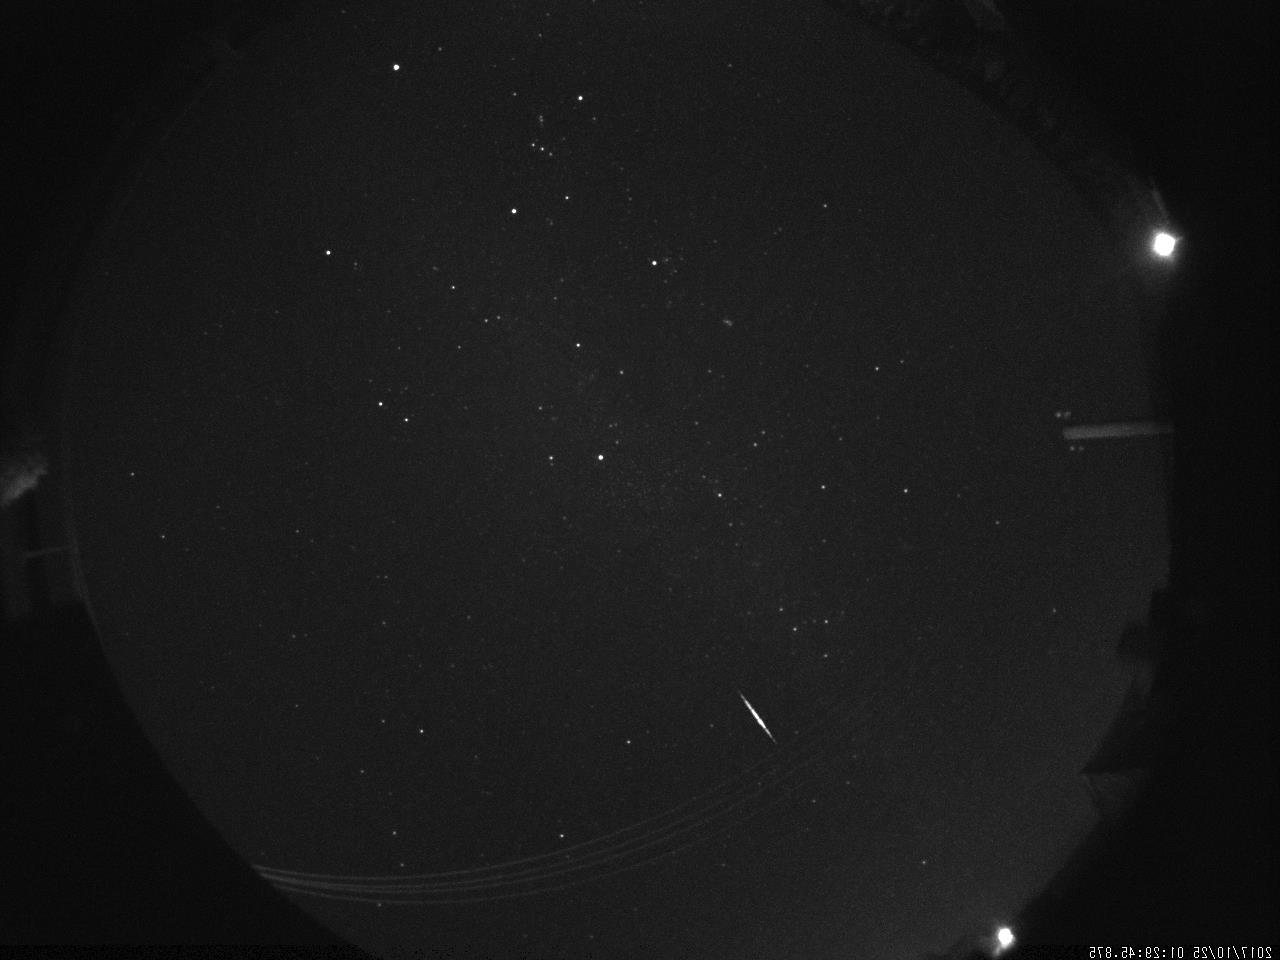meteor: (729, 687, 779, 754)
